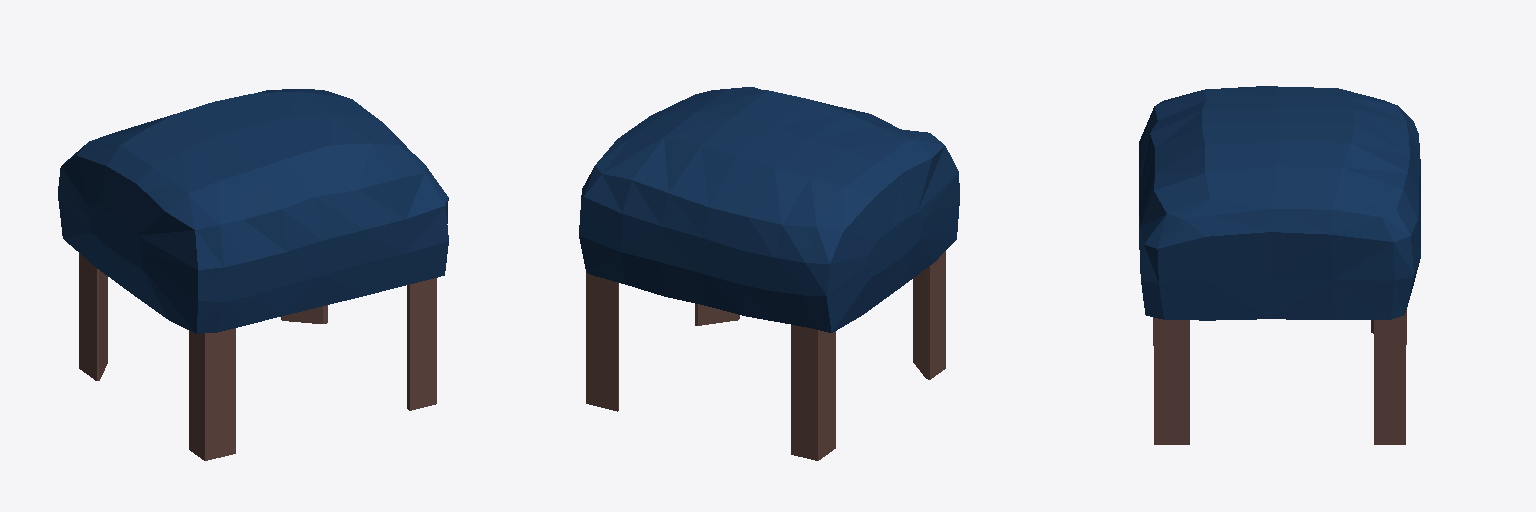
The picture shows the model from 3 angles: view 1: azimuth 30°, elevation 25°; view 2: azimuth 150°, elevation 25°; view 3: azimuth 270°, elevation 25°; orthographic projection.
Parts seen in each view (by area): view 1: sofa1:MeshpolySurface11, pCube3, pCube2, pCube4, pCube5; view 2: sofa1:MeshpolySurface11, pCube4, pCube5, pCube3, pCube2; view 3: sofa1:MeshpolySurface11, pCube2, pCube5.
Boxes of the visible parts, x1,y1,x2,y2 form: sofa1:MeshpolySurface11: [58, 89, 448, 333]; pCube3: [189, 328, 235, 460]; pCube2: [407, 278, 436, 410]; pCube4: [79, 253, 107, 380]; pCube5: [281, 305, 327, 323]; sofa1:MeshpolySurface11: [579, 87, 959, 332]; pCube4: [791, 325, 835, 460]; pCube5: [586, 272, 618, 411]; pCube3: [913, 251, 945, 379]; pCube2: [695, 304, 739, 325]; sofa1:MeshpolySurface11: [1139, 86, 1420, 320]; pCube2: [1154, 318, 1189, 444]; pCube5: [1374, 313, 1405, 444].
Size of the model in its own units: 1 by 0.9378 by 0.9156.
Materials: 2 (2 with a texture image).